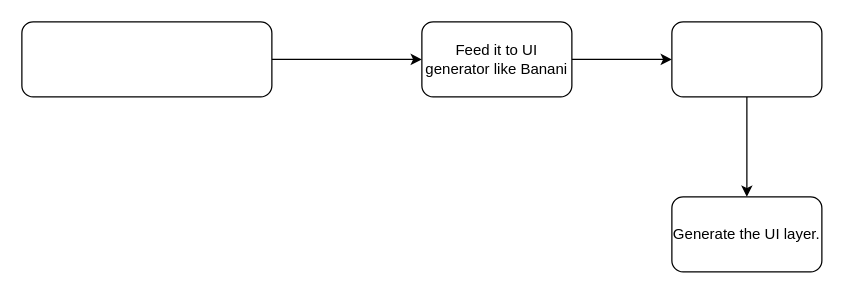
Image size: 844x294. Some labels were removed from this diagram. Here are the shapes that lost their labels. From the top down, the centre of each, then its label:
At (x=146, y=59): "Get inspiration from Dribble and similar sites".
At (x=746, y=59): "Connect UI generator with IDE via MCP".
